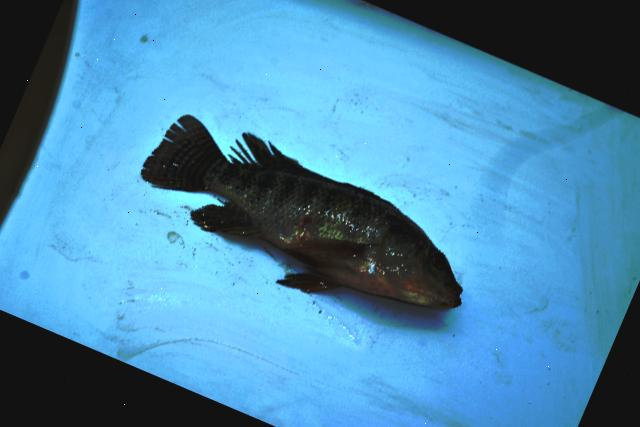Columnaris Disease: (141, 115, 462, 308)
